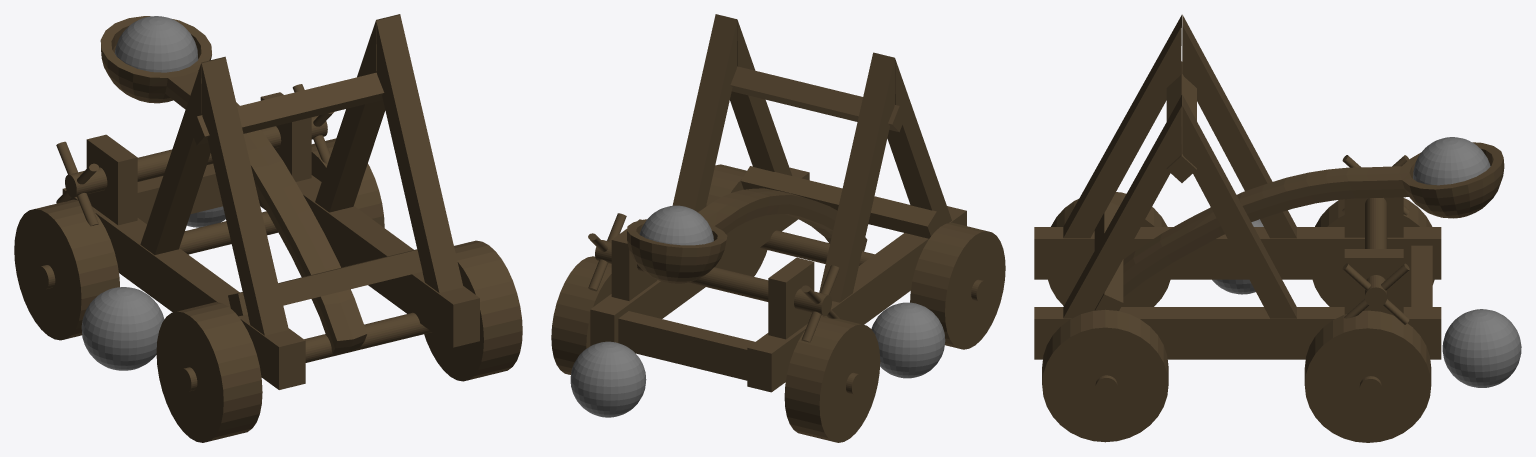
File: Catapult.glb
3 renders of one model, left to right at view 1: azimuth 30°, elevation 25°; view 2: azimuth 150°, elevation 25°; view 3: azimuth 270°, elevation 25°, orthographic. The views are drawn at different scales.
Parts seen in each view (by area): view 1: Sphere.003; view 2: Sphere.003; view 3: Sphere.003.
Part boxes in pixels (left/top/right/bottom): Sphere.003: left=14, top=14, right=522, bottom=442; Sphere.003: left=551, top=14, right=1005, bottom=442; Sphere.003: left=1034, top=14, right=1521, bottom=442.
Size of the model in its own units: 1.86 by 1.77 by 2.48.
